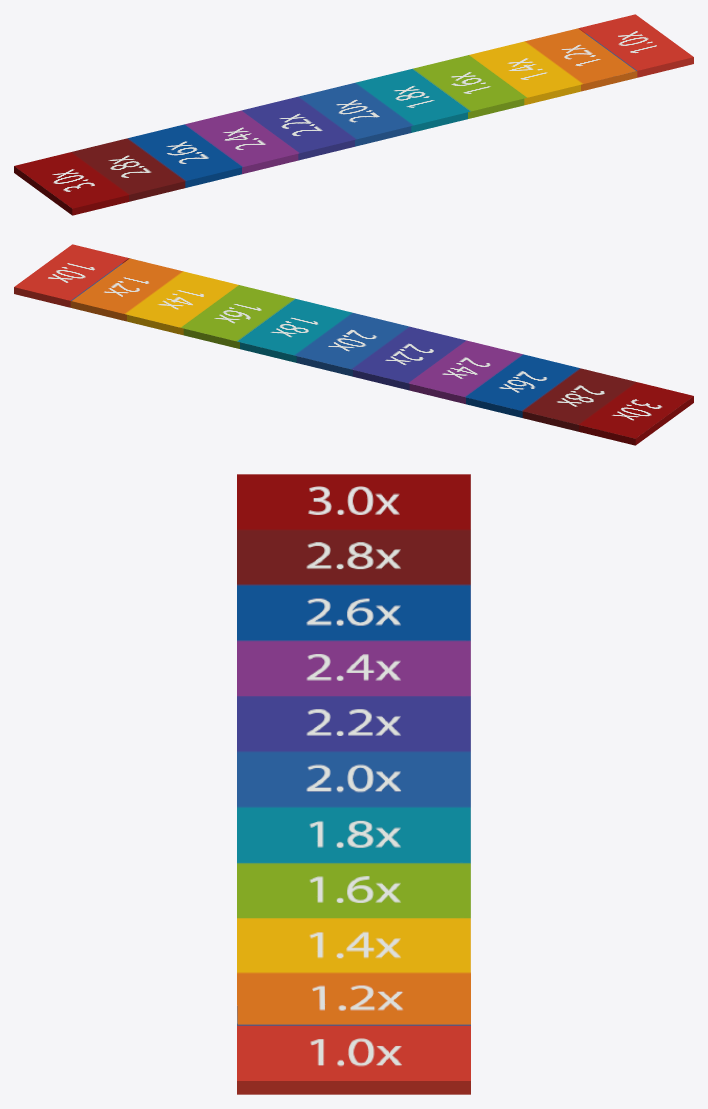
Rendered from multifbx.fbx.
The picture shows the model from 3 angles, top to bottom: view 1: azimuth 30°, elevation 25°; view 2: azimuth 150°, elevation 25°; view 3: azimuth 270°, elevation 25°; orthographic projection. The views are drawn at different scales.
Visible parts, largest first — view 1: Cube.001; view 2: Cube.001; view 3: Cube.001.
Boxes of the visible parts, <box> form: Cube.001: <box>14,14,693,215</box>; Cube.001: <box>14,244,693,445</box>; Cube.001: <box>237,474,470,1094</box>.
Bounding box in the file's own units: 1227 × 13.06 × 200.
1 material, 1 textured.
